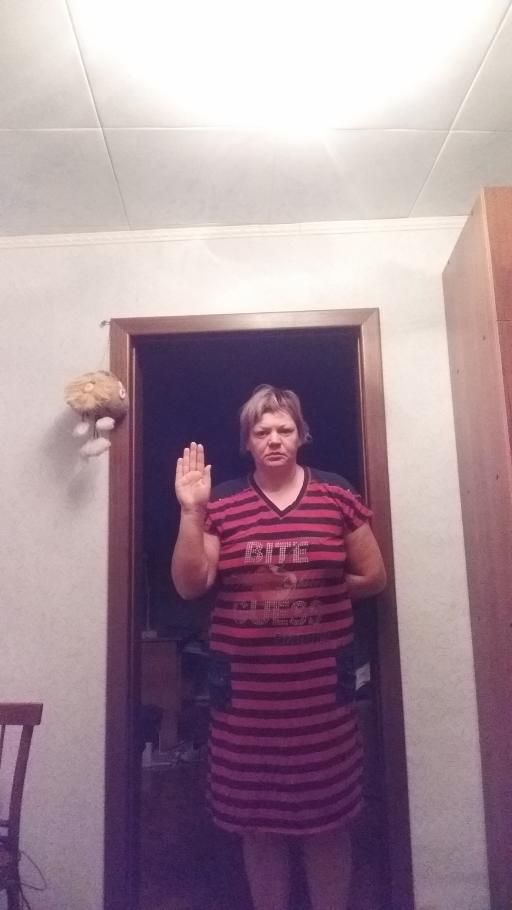stop: (172, 440, 212, 509)
